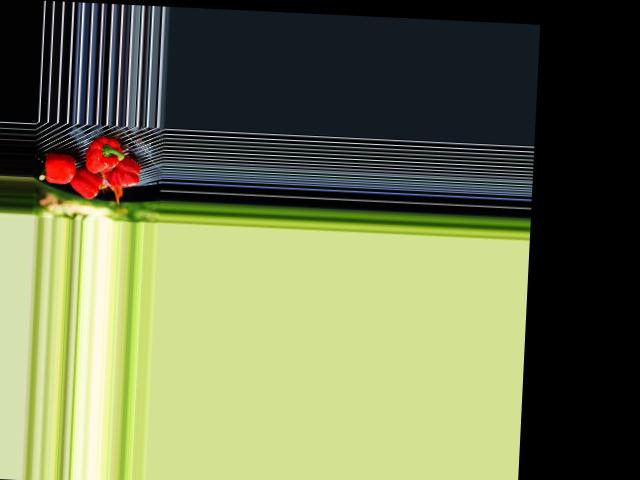bell_pepper: (104, 157, 141, 189)
